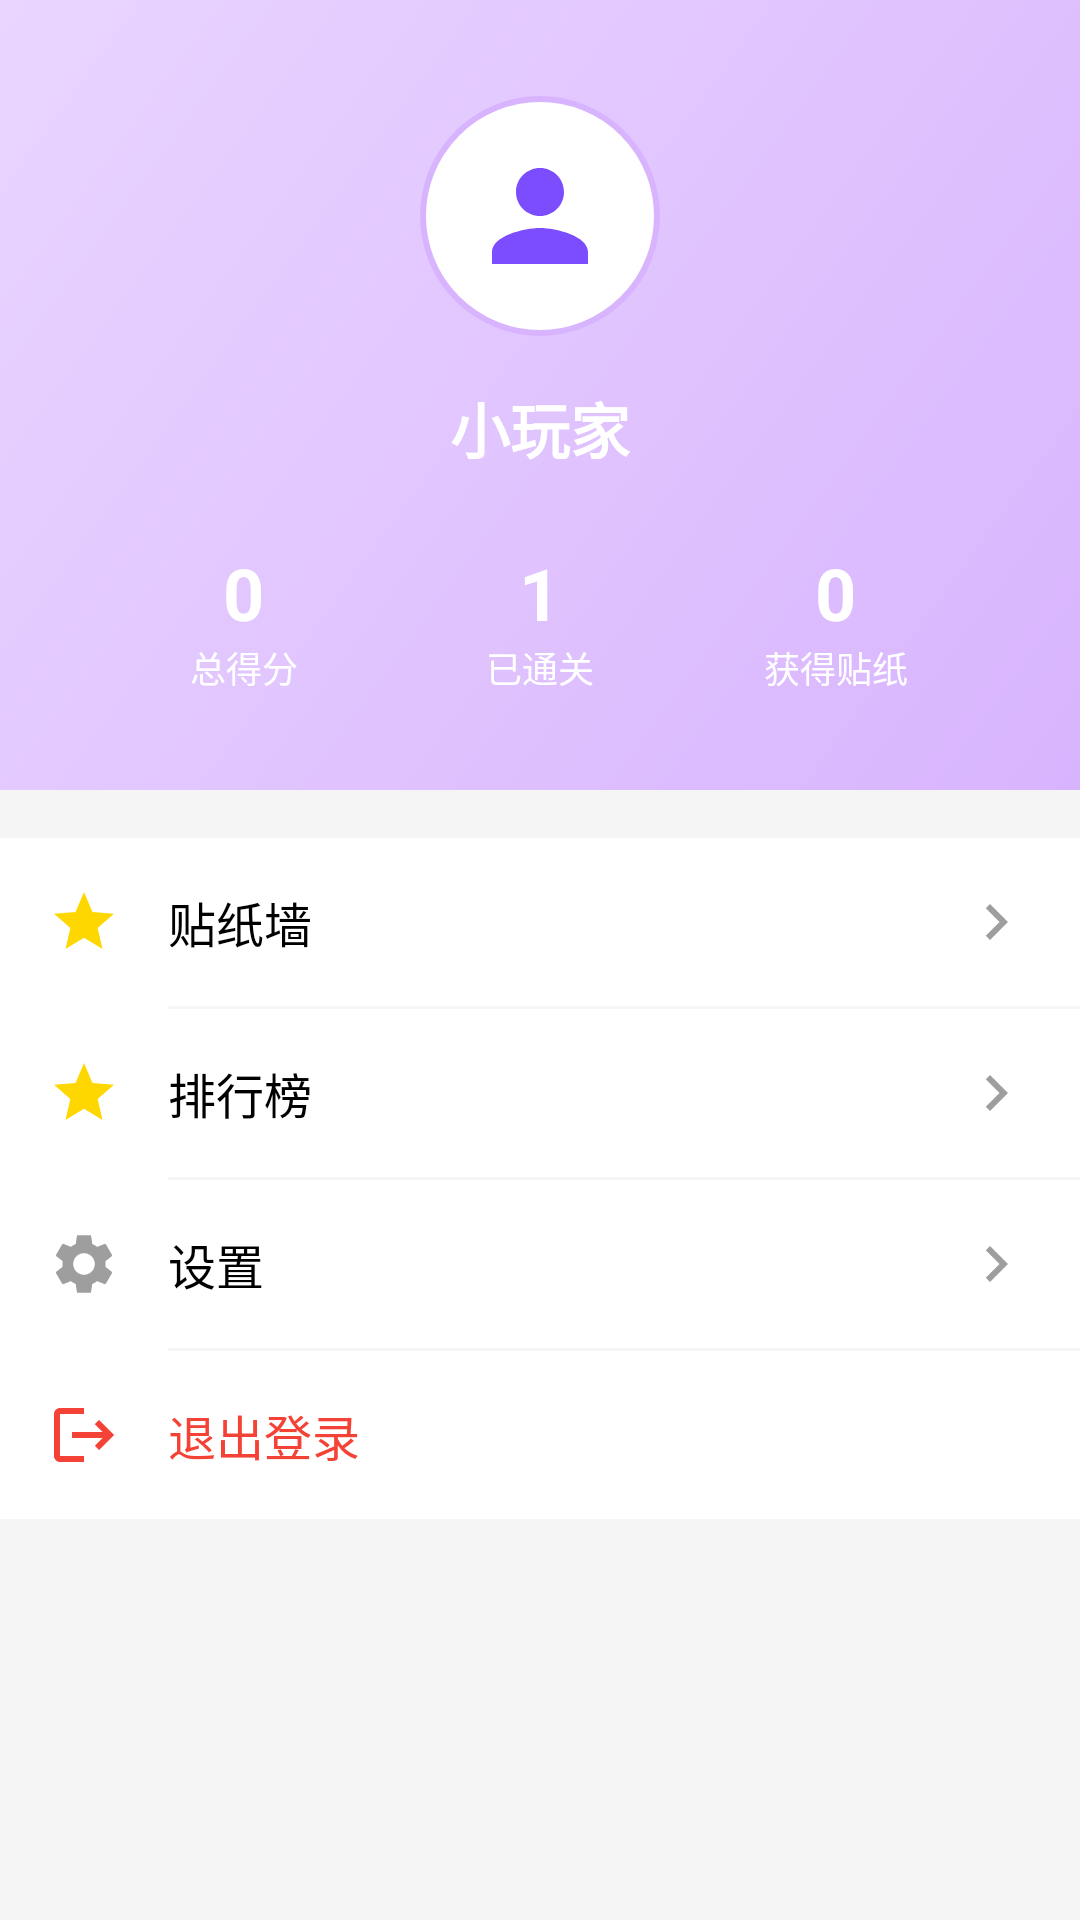

Where to tap for icons on this 1080 x 1920 app screen, as (x,y):
arrow right: (997,922), (997,1093), (997,1264)
settings: (84,1264)
user: (540,216)
